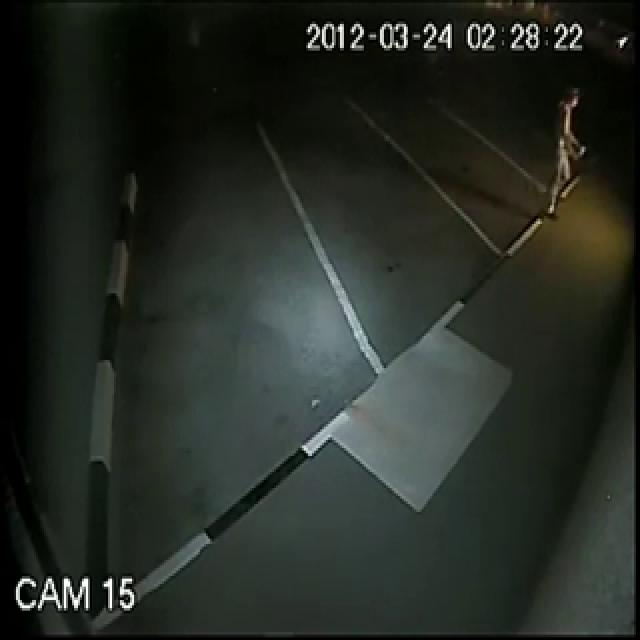vandalism: (378, 29, 640, 362)
